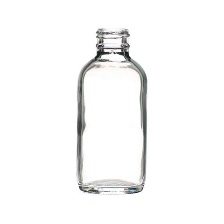bottle: (73, 22, 154, 205)
